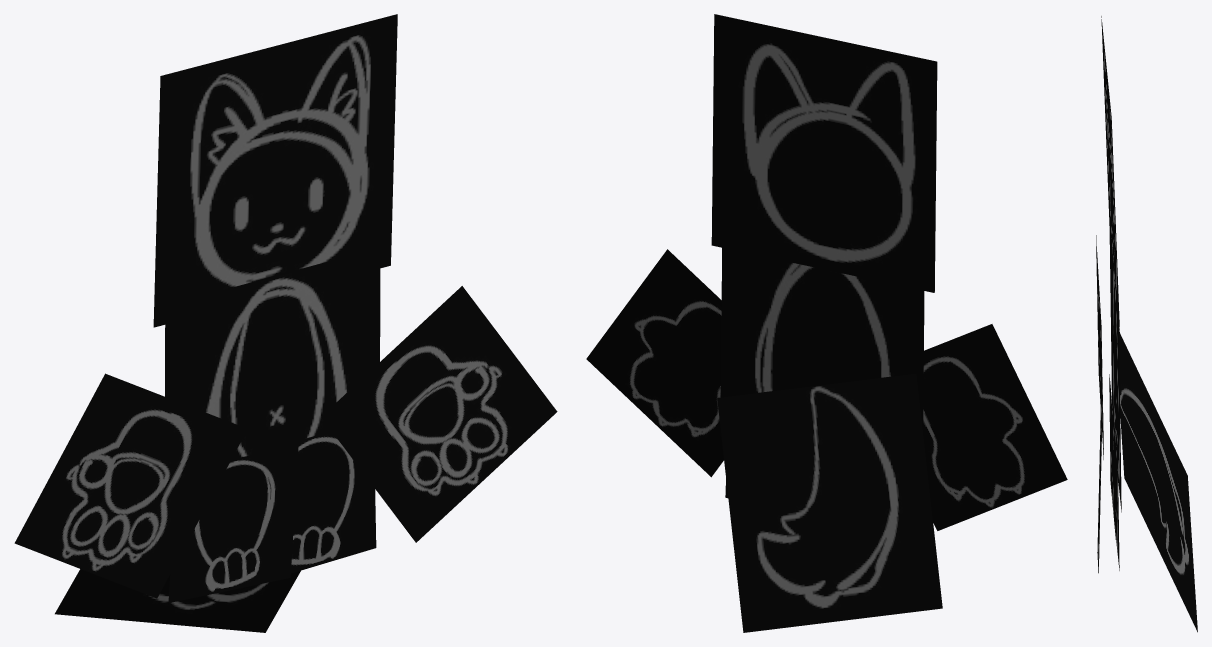
The model's file is anim@RESO_Pera_thumbnail.glb.
3 renders of one model, left to right at view 1: azimuth 30°, elevation 25°; view 2: azimuth 150°, elevation 25°; view 3: azimuth 270°, elevation 25°, orthographic. The views are drawn at different scales.
Visible parts, largest first — view 1: Head_Front, Body_Front, LeftHand_Front, RightHand_Front, RightFoot_Front, LeftFoot_Front, Tail_Front; view 2: Head_Back, Tail_Back, Body_Back, RightHand_Back, LeftHand_Back; view 3: Tail_Back, Body_Front, Head_Front, RightHand_Back, RightFoot_Front, LeftFoot_Front, LeftHand_Back.
Part boxes in pixels (x1,y1,x2,y2): Head_Front: (153,14,397,327); Body_Front: (165,247,380,458); LeftHand_Front: (321,286,557,542); RightHand_Front: (14,373,247,598); RightFoot_Front: (168,445,298,602); LeftFoot_Front: (252,431,376,573); Tail_Front: (55,569,300,632); Head_Back: (711,14,937,292); Tail_Back: (717,373,942,632); Body_Back: (720,247,924,435); RightHand_Back: (923,324,1067,530); LeftHand_Back: (586,249,723,477); Tail_Back: (1119,332,1197,632); Body_Front: (1109,225,1121,512); Head_Front: (1101,16,1119,333); RightHand_Back: (1096,235,1103,459); RightFoot_Front: (1109,374,1115,539); LeftFoot_Front: (1113,413,1119,570); LeftHand_Back: (1097,391,1102,573).
Bounding box in the file's own units: 88.4 × 99.53 × 16.69.
Materials: 1 (1 with a texture image).
